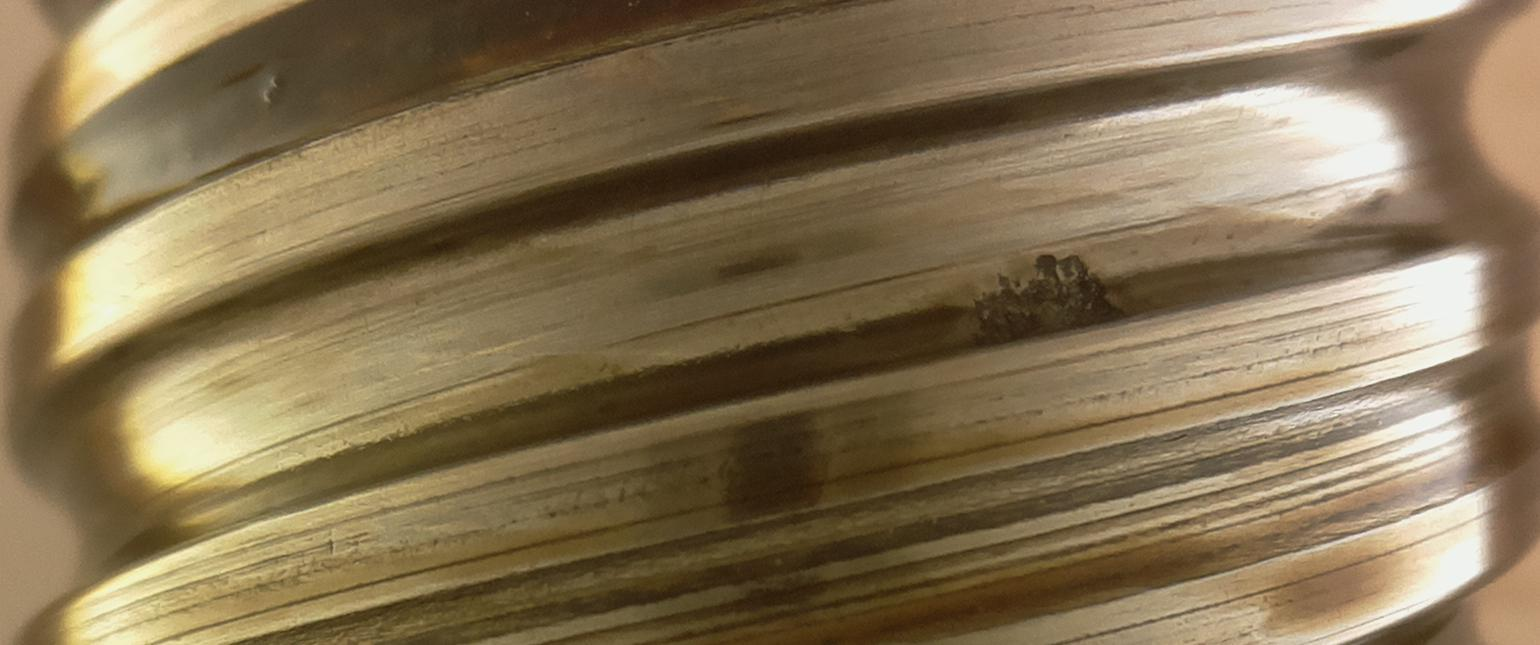pitting: (970, 254, 1128, 347)
